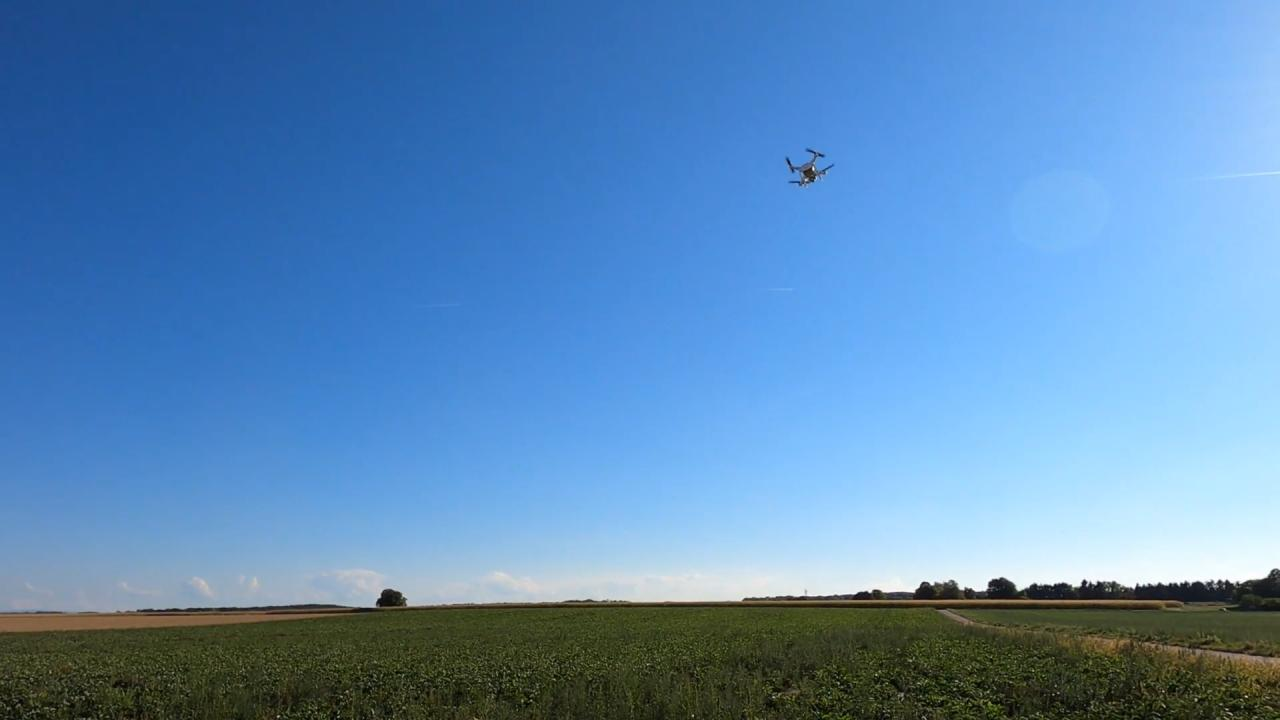Drone: (779, 141, 838, 197)
